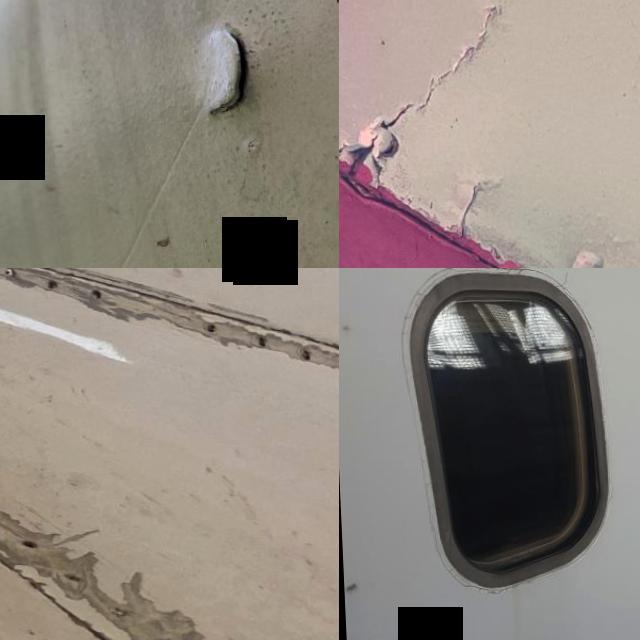Crack: (339, 0, 517, 201), (161, 8, 268, 136), (434, 167, 494, 246), (550, 268, 573, 286)
Missing_Fastener: (200, 319, 219, 332), (42, 277, 58, 289), (86, 288, 100, 299), (17, 538, 34, 547)
